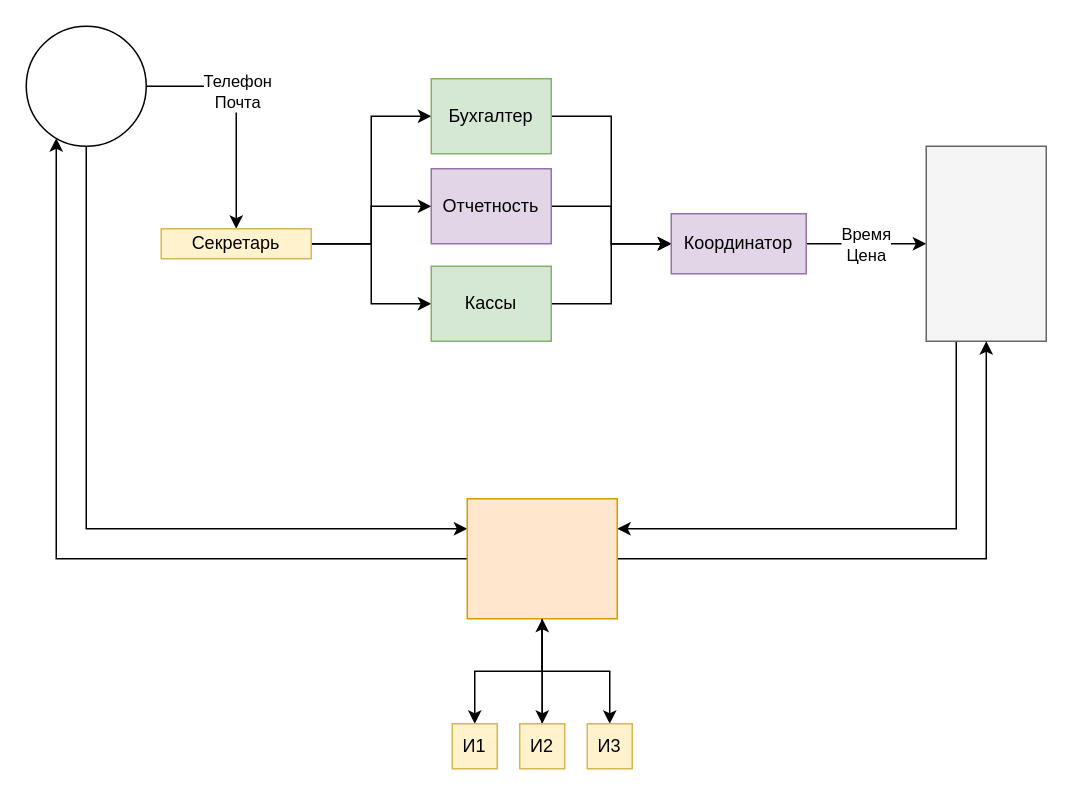
Some shapes in this 1073 by 795 pixel diagram are drawn without their labels. Here are the shapes that lost their labels. From the top down, the centre of each, then its label:
At (85,85): "Клиент с проблемой".
At (985,243): "Договорной отдел".
At (541,558): "Менеджер по работе с клиентами и исполнителями".
